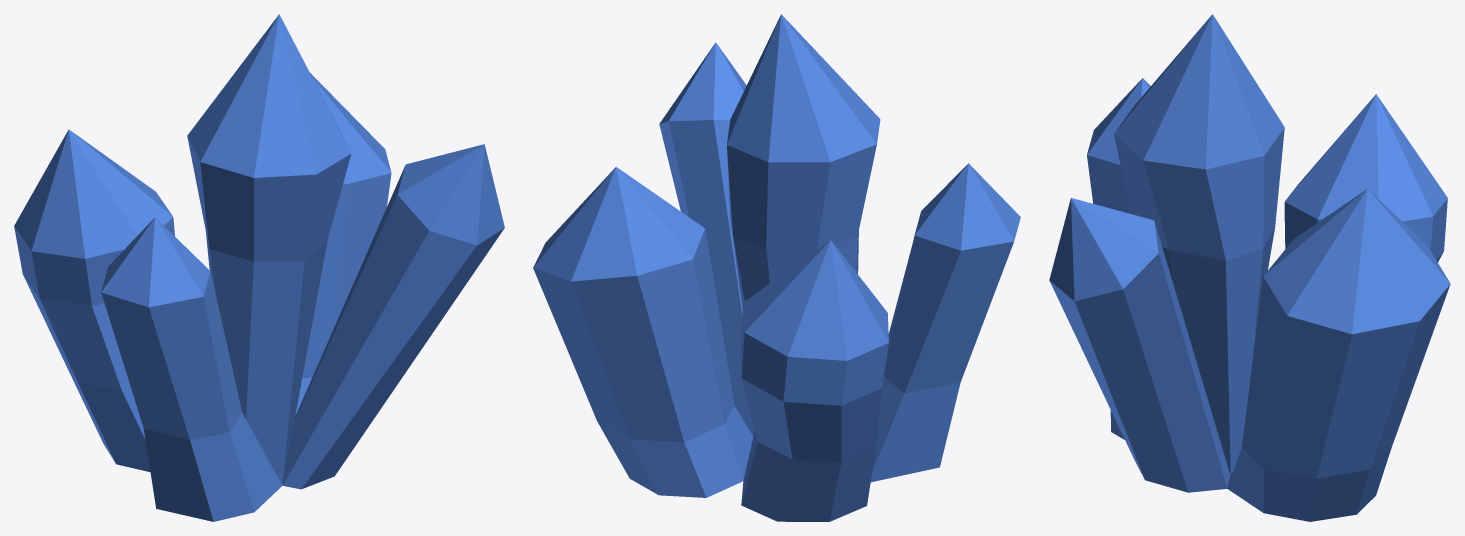
File: кристаллы 3.fbx
3 renders of one model, left to right at view 1: azimuth 30°, elevation 25°; view 2: azimuth 150°, elevation 25°; view 3: azimuth 270°, elevation 25°, orthographic. The views are drawn at different scales.
Visible parts, largest first — view 1: Circle; view 2: Circle; view 3: Circle.
Boxes of the visible parts, x1,y1,x2,y2 form: Circle: [14, 14, 504, 521]; Circle: [533, 14, 1020, 521]; Circle: [1049, 14, 1450, 521].
Bounding box in the file's own units: 542 × 606 × 480.
